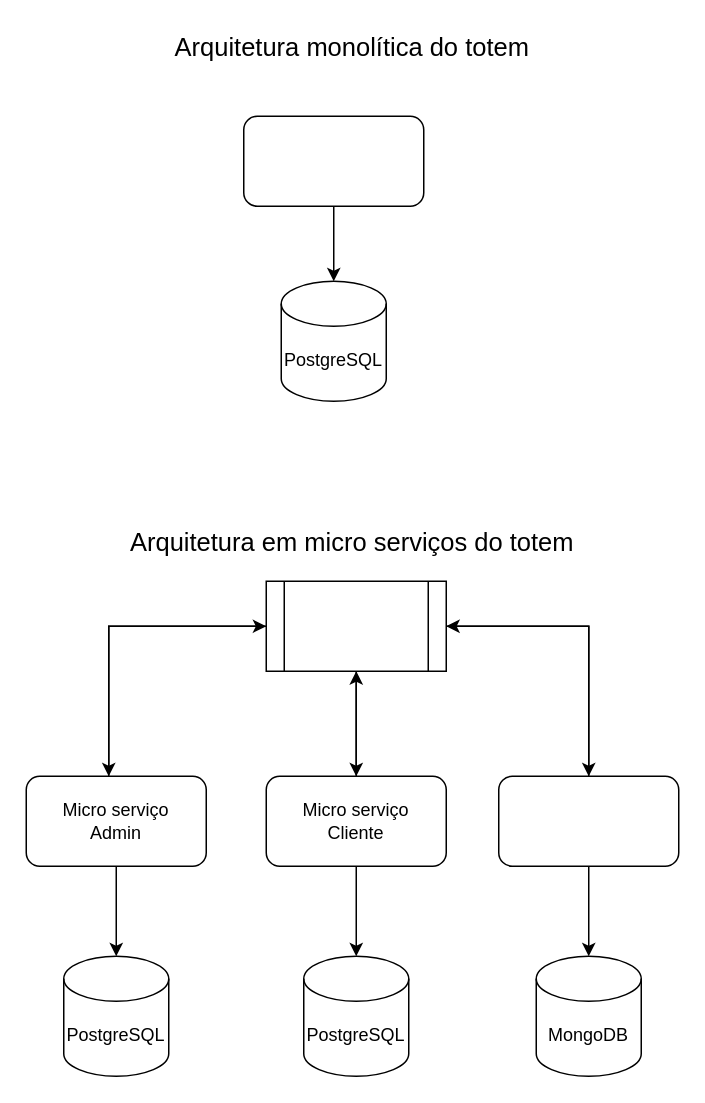
Some shapes in this 705 by 1103 pixel diagram are drawn without their labels. Each missing label, with the centre of its shape:
Kafka broker: [355,625]
Micro serviço Pedido: [588,820]
Monolito: [333,160]
